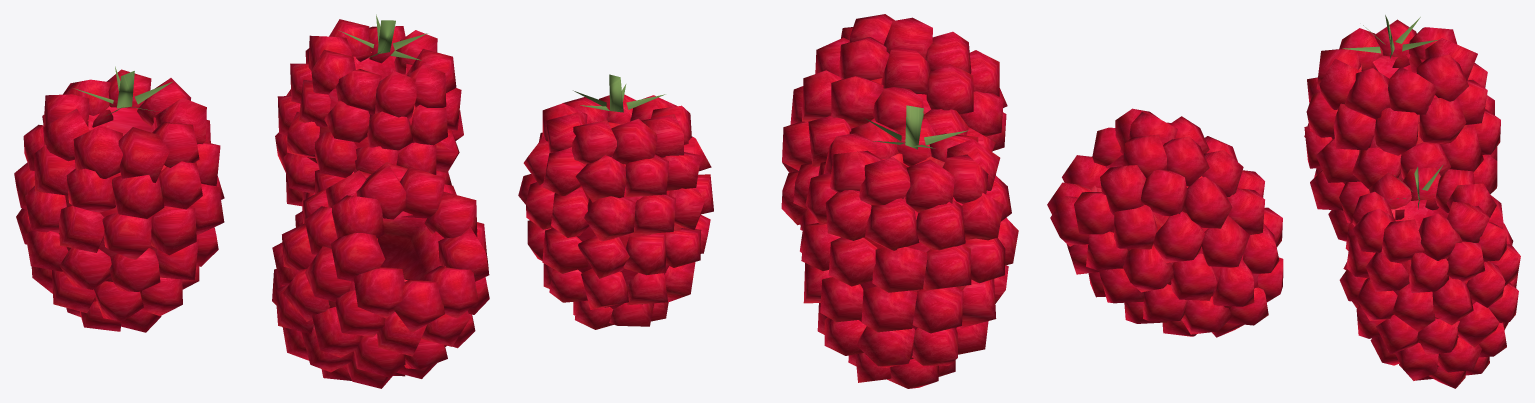
File: NP_Raspberry_Harvest_LOD1.fbx
3 views of the same model, side by side, from view 1: azimuth 30°, elevation 25°; view 2: azimuth 150°, elevation 25°; view 3: azimuth 270°, elevation 25° (orthographic). The views are drawn at different scales.
Parts seen in each view (by area): view 1: NP_Raspberry_Harvest; view 2: NP_Raspberry_Harvest; view 3: NP_Raspberry_Harvest.
Boxes of the visible parts, x1,y1,x2,y2 form: NP_Raspberry_Harvest: (14, 14, 489, 388); NP_Raspberry_Harvest: (518, 14, 1018, 388); NP_Raspberry_Harvest: (1047, 15, 1520, 388).
Bounding box in the file's own units: 46.39 × 26.78 × 45.87.
